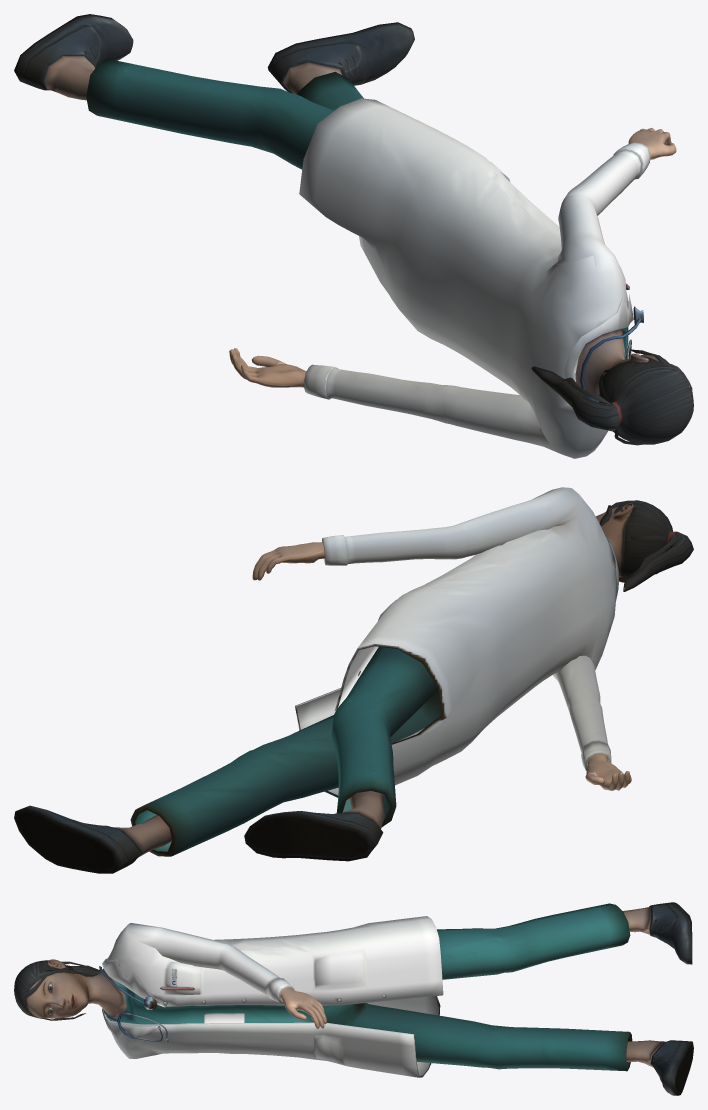
Rendered from walk.obj.
3 renders of one model, top to bottom at view 1: azimuth 30°, elevation 25°; view 2: azimuth 150°, elevation 25°; view 3: azimuth 270°, elevation 25°, orthographic. The views are drawn at different scales.
Bounding box in the file's own units: 0.8506 × 0.3723 × 1.69.
Materials: 1 (1 with a texture image).
